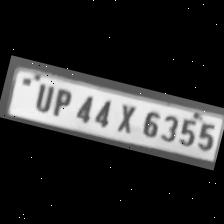3: (156, 108, 182, 142)
4: (70, 88, 98, 124), (88, 92, 116, 128)
5: (192, 118, 219, 152), (174, 113, 198, 146)
6: (134, 104, 164, 138)
P: (47, 83, 76, 118)
U: (28, 78, 56, 113)
X: (110, 98, 141, 135)
